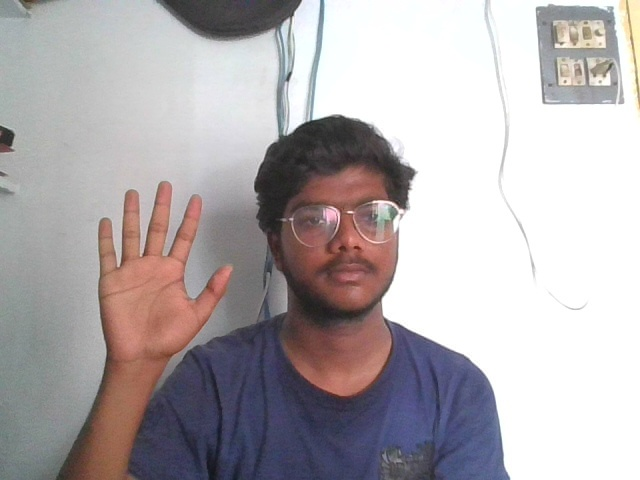Hello: (95, 178, 235, 359)
